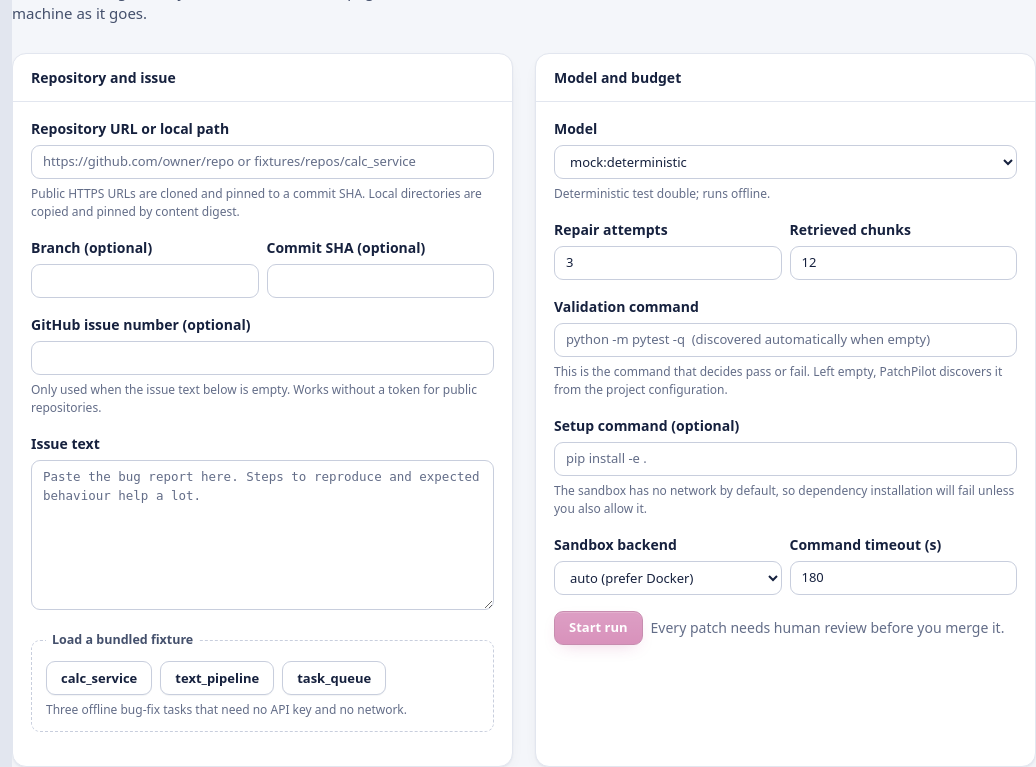
Test: NewRunPage › fills the form from a bundled fixture
The image size is (1036, 767).
(page scrolled)
Click the button "calc_service": click(99, 678) [46,661,152,695]
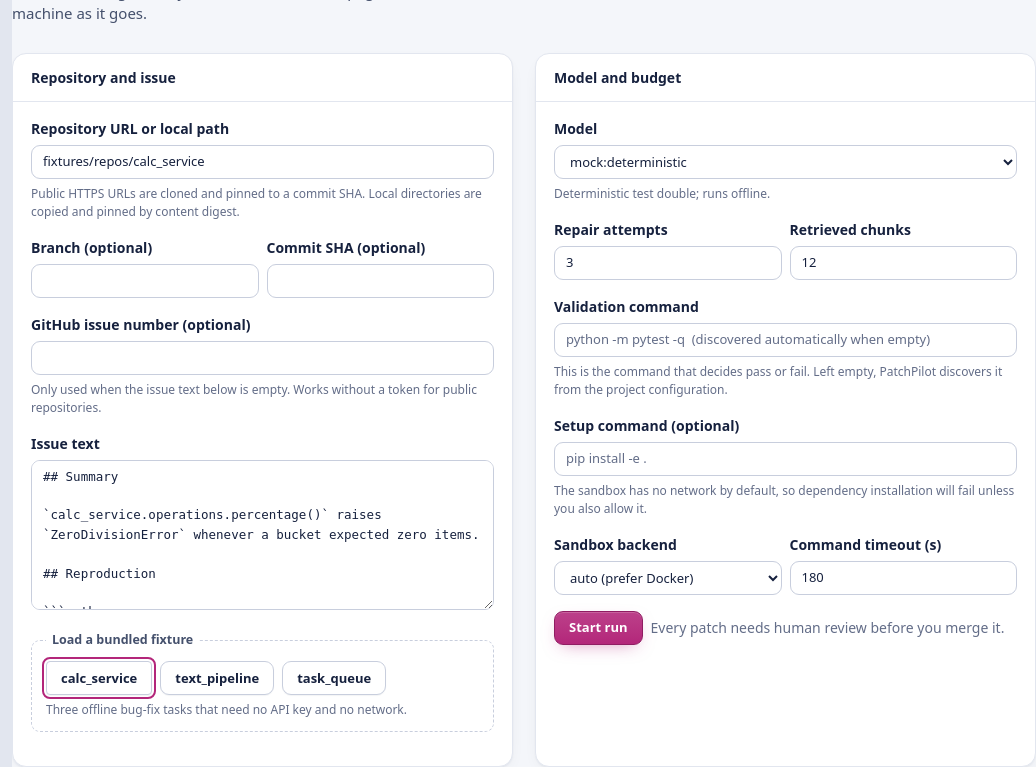
expect the field labelled "Repository URL or local path" holds "fixtures/repos/calc_service": met, box [31,145,494,179]
